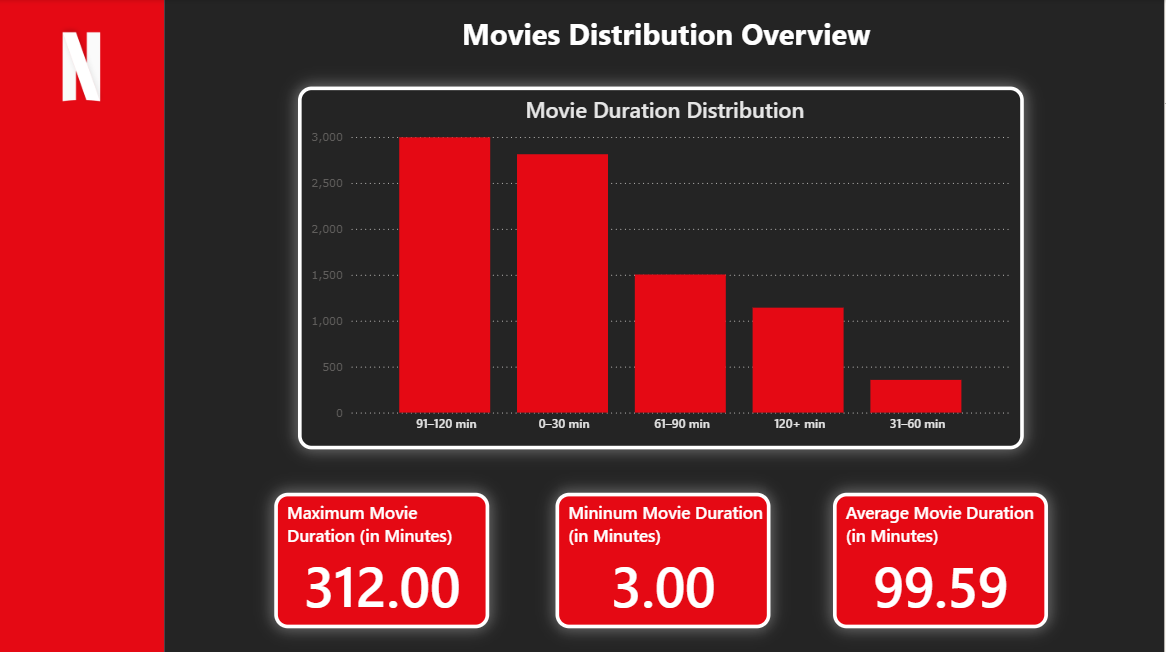

The page's visual inventory and layout, read from the dashboard file:
{"tool":"powerbi","page":{"name":"Movies Overview","canvas":[1280,720],"ordinal":2},"visuals":[{"type":"clusteredColumnChart","title":"Movie Duration Distribution","fields":{"Category":["netflix_titles.Duration Group"],"Y":["CountNonNull(netflix_titles.title)"]},"box":[330,95.7,797.1,398.6],"z":0},{"type":"card","title":"Maximum Movie Duration (in Minutes)","fields":{"Values":["netflix_titles.Max Movie Duration"]},"box":[302.9,541.4,235.7,148.6],"z":1000},{"type":"textbox","box":[490,11.4,478.6,60],"z":2000},{"type":"card","title":"Mininum Movie Duration (in Minutes)","fields":{"Values":["netflix_titles.Min Duration"]},"box":[611.4,541.4,235.7,148.6],"z":3000},{"type":"card","title":"Average Movie Duration (in Minutes)","fields":{"Values":["netflix_titles.Average Movie Duration"]},"box":[917.1,541.4,235.7,148.6],"z":4000},{"type":"shape","box":[0,0,183.3,720],"z":5000},{"type":"image","box":[17.1,24.3,150,94.3],"z":6000}]}

Visuals, with their boxes in screenshot pixels (x1, y1, x2, y2), scaled from the page's 1280x720 canvas onto the 1166x652 screenshot:
"Movie Duration Distribution" clusteredColumnChart: [301,87,1027,448]
"Maximum Movie Duration (in Minutes)" card: [276,490,491,625]
textbox: [446,10,882,65]
"Mininum Movie Duration (in Minutes)" card: [557,490,772,625]
"Average Movie Duration (in Minutes)" card: [835,490,1050,625]
shape: [0,0,167,651]
image: [16,22,152,107]
